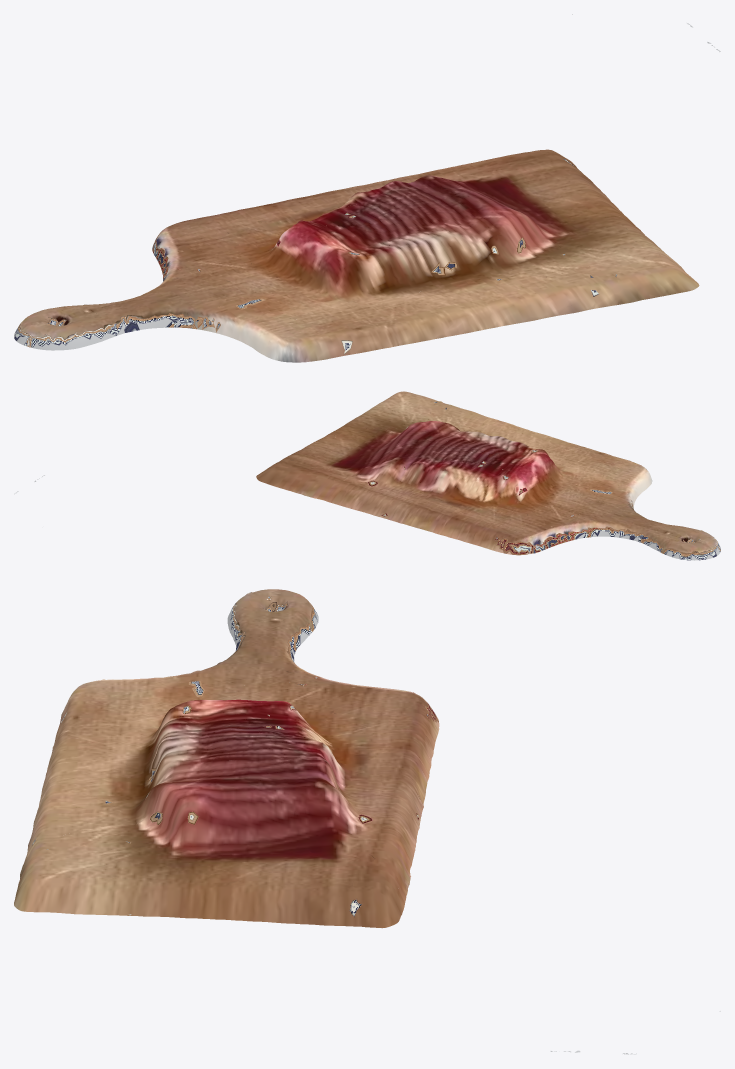
File: s_jamon.glb
3 views of the same model, one above another, from view 1: azimuth 30°, elevation 25°; view 2: azimuth 150°, elevation 25°; view 3: azimuth 270°, elevation 25° (orthographic). The views are drawn at different scales.
Parts seen in each view (by area): view 1: Object_2; view 2: Object_2; view 3: Object_2.
Boxes of the visible parts, x1,y1,x2,y2 form: Object_2: (14,14,720,362); Object_2: (14,391,720,560); Object_2: (14,589,720,1054).
Bounding box in the file's own units: 0.6 × 0.0355 × 0.3915.
1 material, 1 textured.
